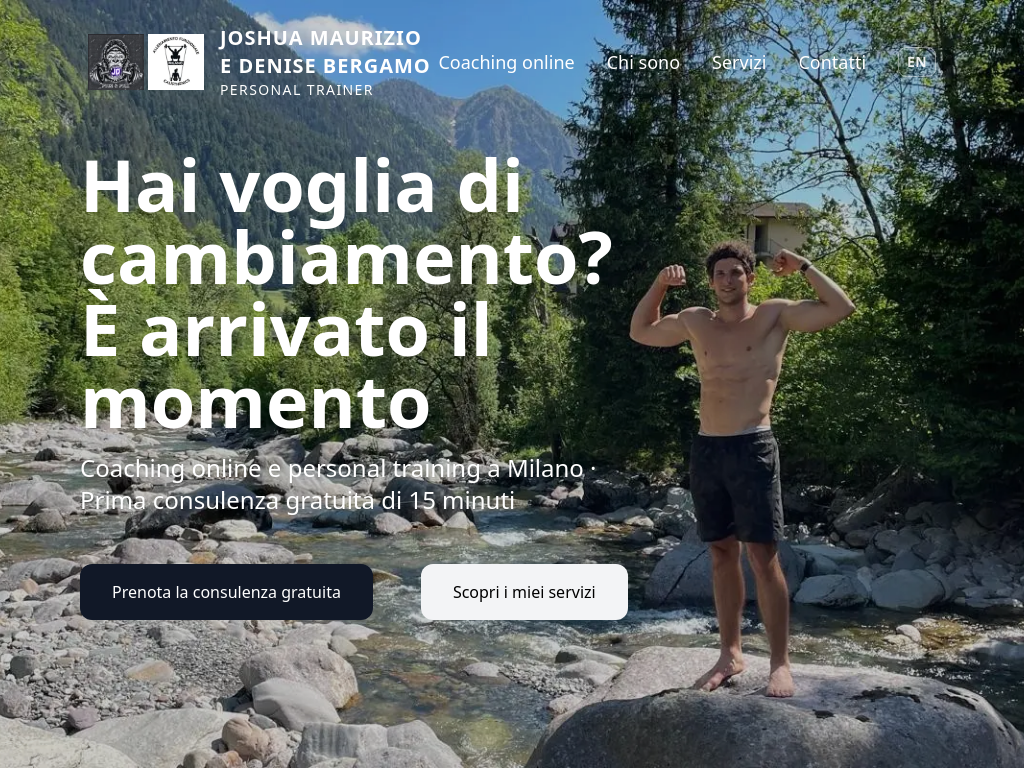
Test: Home › switches language from the header
This screenshot has width=1024, height=768.
Step 1. Click the button with aria-label "Passa all’inglese" → (917, 62), box [898, 47, 936, 77]
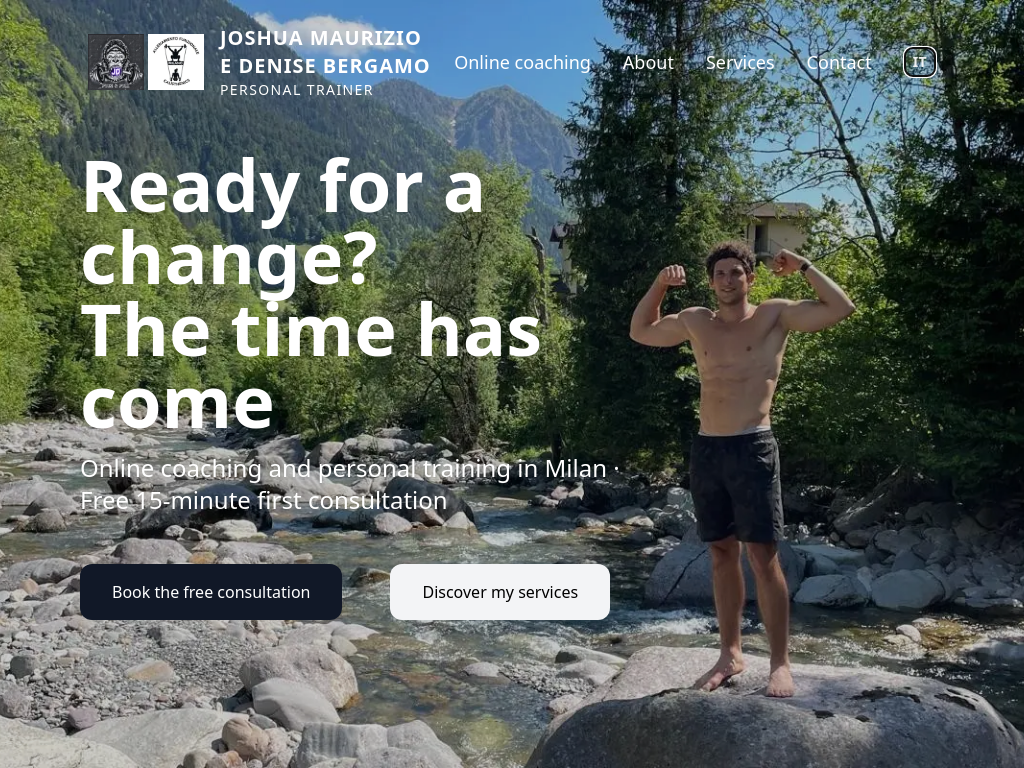
Expected: the heading shows "Ready for a change?", [80, 135, 486, 305]
